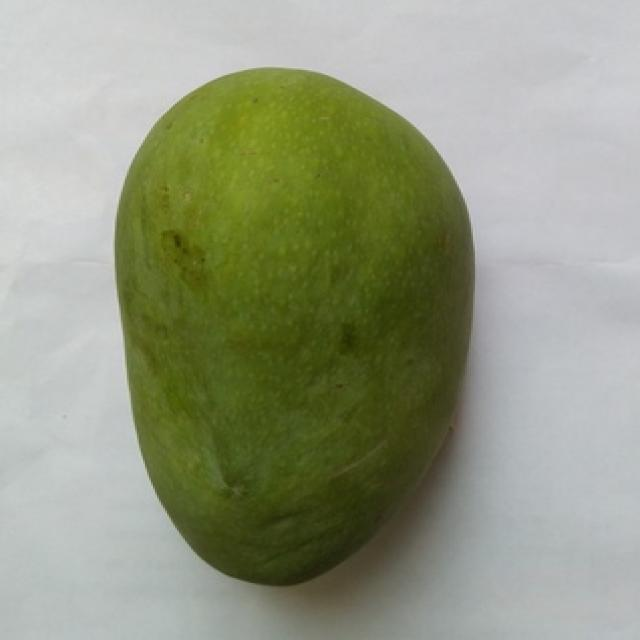Mango: (115, 68, 473, 585)
